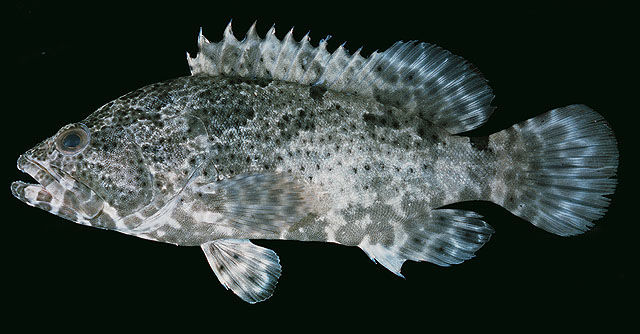fish: (11, 18, 620, 304)
